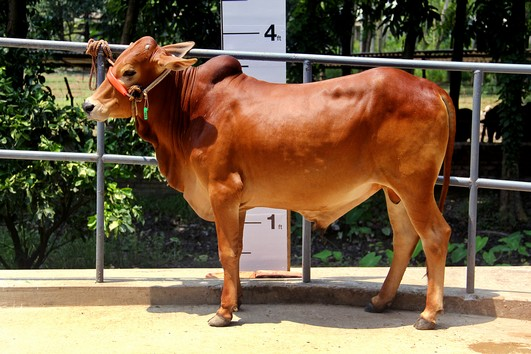cow: (83, 33, 460, 333)
